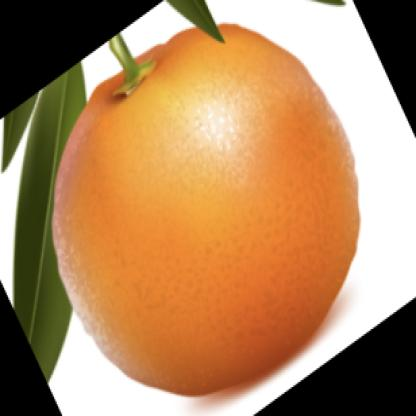fresh: (54, 23, 365, 395)
